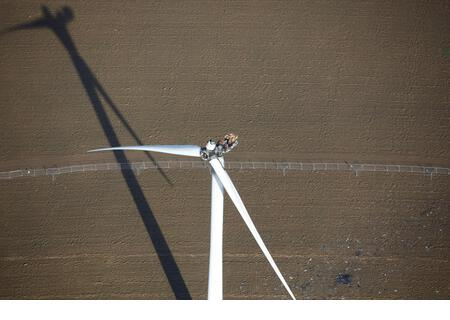faulty: (82, 129, 275, 204)
